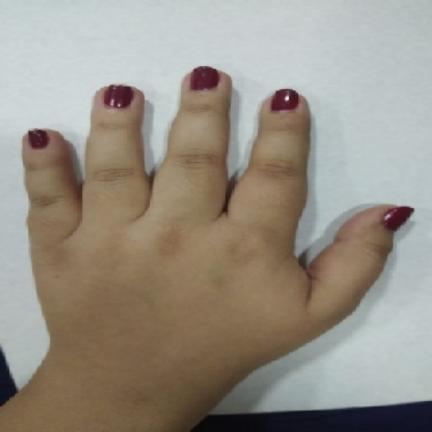Nail: (383, 207, 414, 231), (190, 66, 219, 90), (104, 85, 133, 108), (271, 89, 299, 111), (28, 129, 49, 149)
